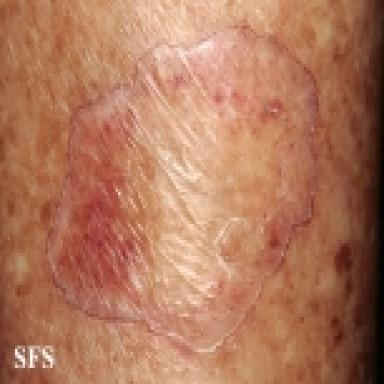Porokeratosis: (48, 28, 316, 351)
